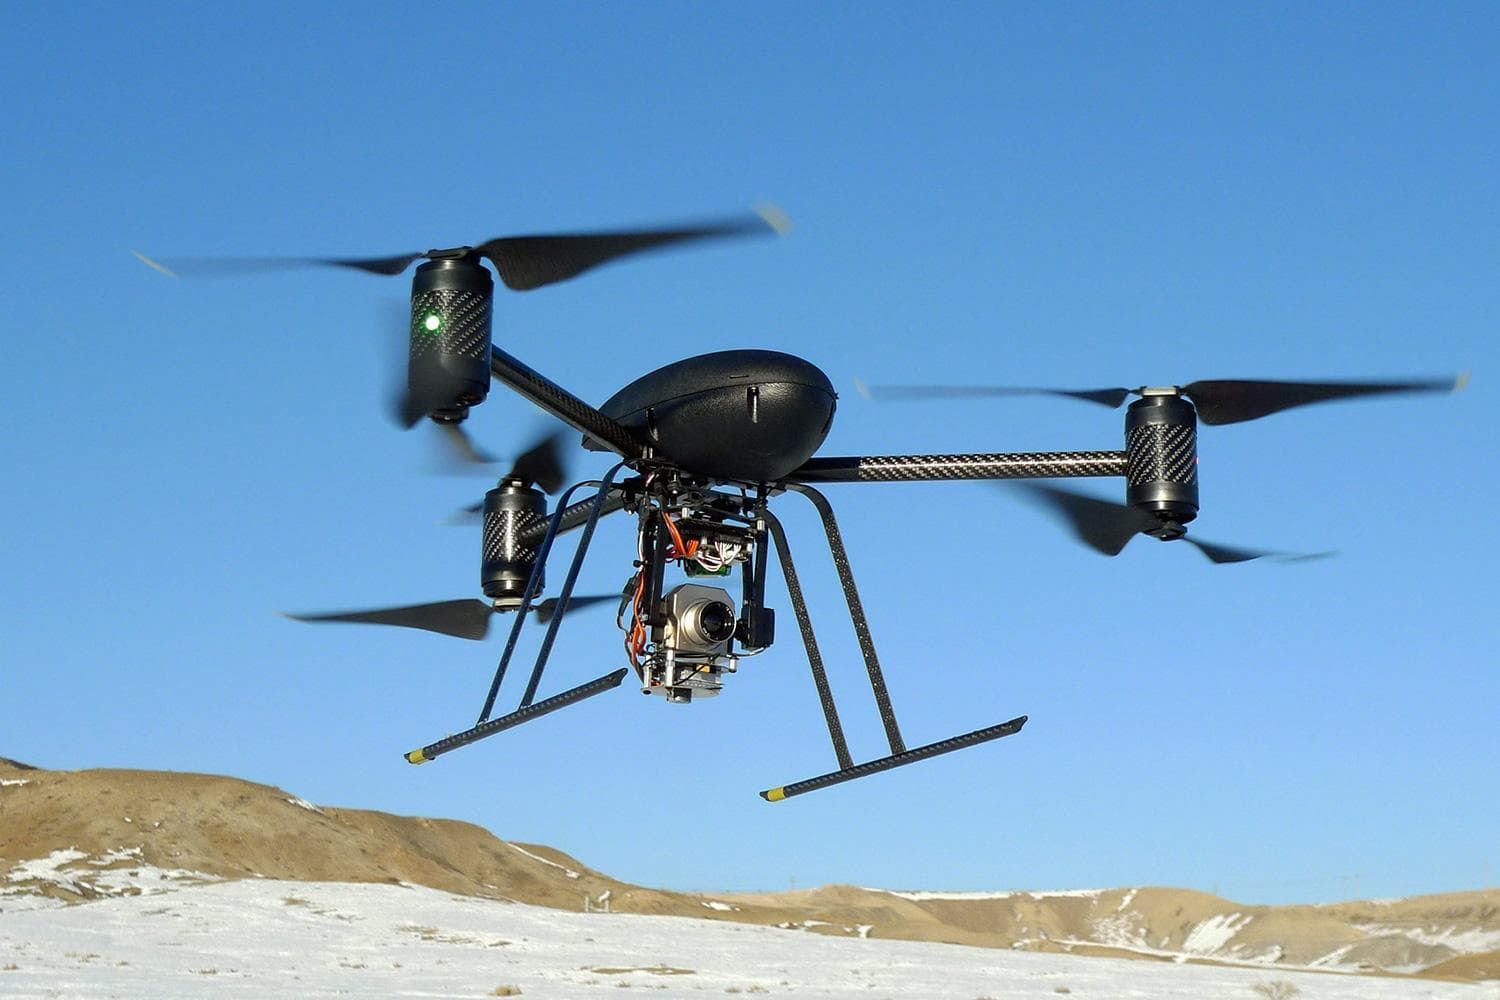drone: (129, 198, 1465, 814)
